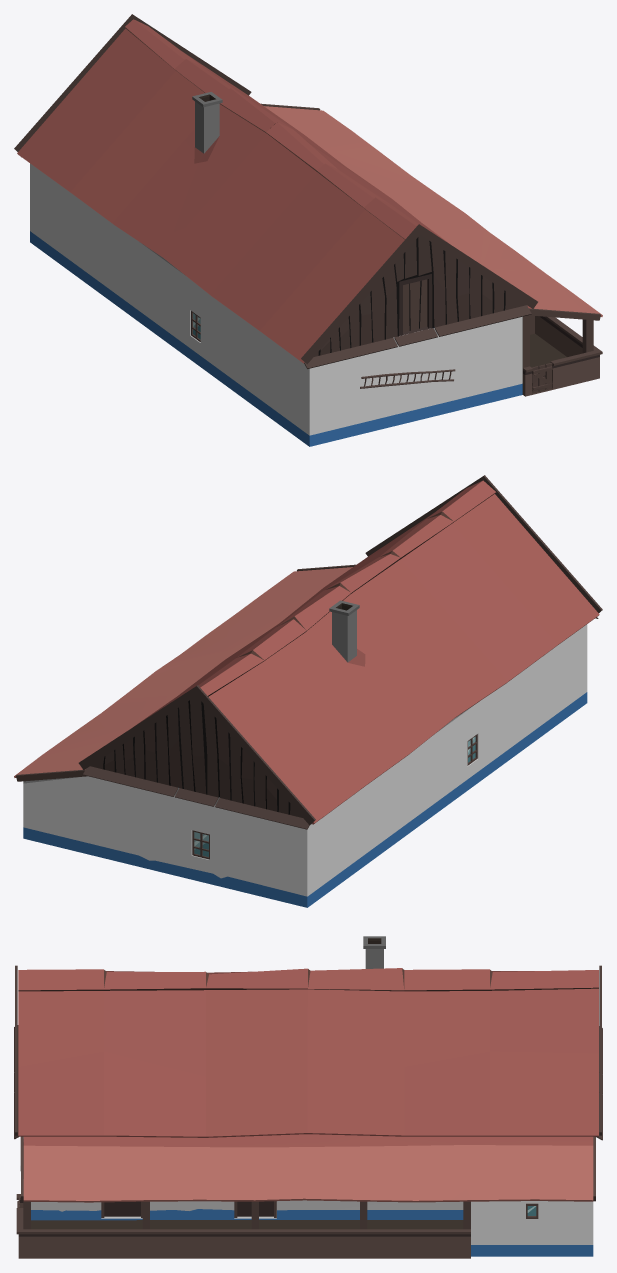
The model's file is SM_House.fbx.
3 views of the same model, one above another, from view 1: azimuth 30°, elevation 25°; view 2: azimuth 150°, elevation 25°; view 3: azimuth 270°, elevation 25° (orthographic).
Parts seen in each view (by area): view 1: SM_House; view 2: SM_House; view 3: SM_House.
Part boxes in pixels (x1,y1,x2,y2): SM_House: [14, 14, 602, 446]; SM_House: [14, 475, 602, 907]; SM_House: [14, 936, 602, 1258].
Bounding box in the file's own units: 1188 × 764 × 1946.
Materials: 1 (1 with a texture image).
